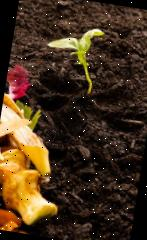organic: (34, 21, 118, 104), (0, 96, 72, 185), (0, 161, 69, 236)
